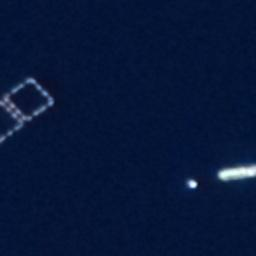square_solid: (1, 71, 56, 121), (1, 96, 28, 148)
